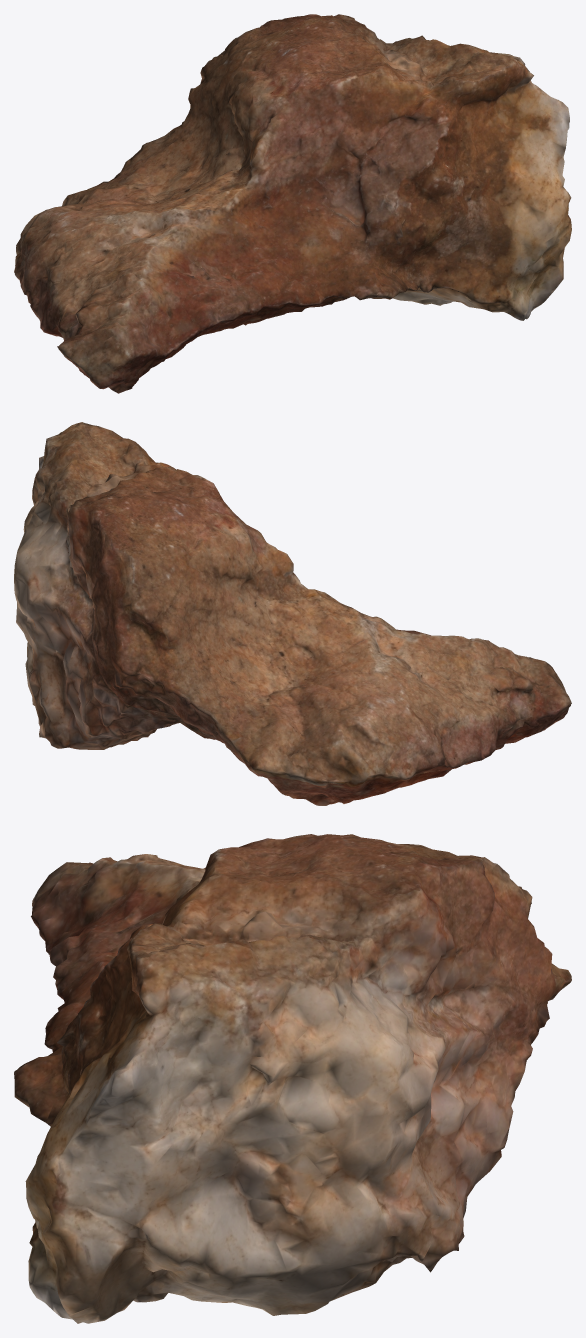
The model's file is runtime-lod.glb.
3 views of the same model, one above another, from view 1: azimuth 30°, elevation 25°; view 2: azimuth 150°, elevation 25°; view 3: azimuth 270°, elevation 25° (orthographic). The views are drawn at different scales.
Parts seen in each view (by area): view 1: stone_01; view 2: stone_01; view 3: stone_01.
Boxes of the visible parts, x1,y1,x2,y2 form: stone_01: (14, 14, 571, 393); stone_01: (14, 422, 571, 805); stone_01: (14, 834, 571, 1323).
Size of the model in its own units: 0.1469 by 0.0718 by 0.089.
Materials: 1 (1 with a texture image).
